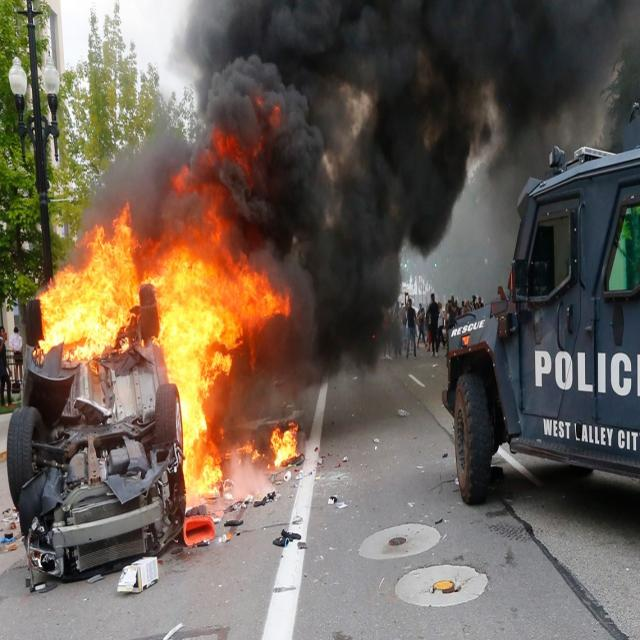fire: (32, 203, 151, 373), (151, 227, 292, 341), (170, 98, 278, 227), (161, 340, 231, 506), (234, 422, 298, 470)
